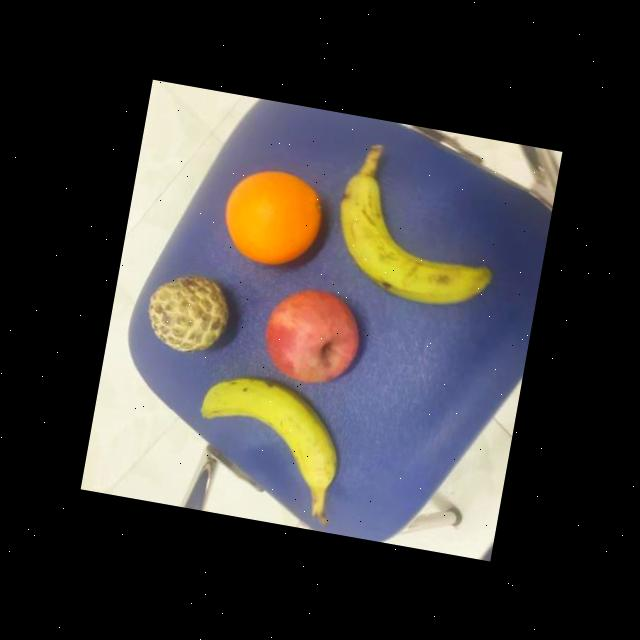Sakya fruit: (138, 266, 235, 360)
apple: (255, 282, 368, 394)
banana: (318, 170, 505, 316), (187, 368, 350, 502)
orange: (218, 160, 328, 272)
